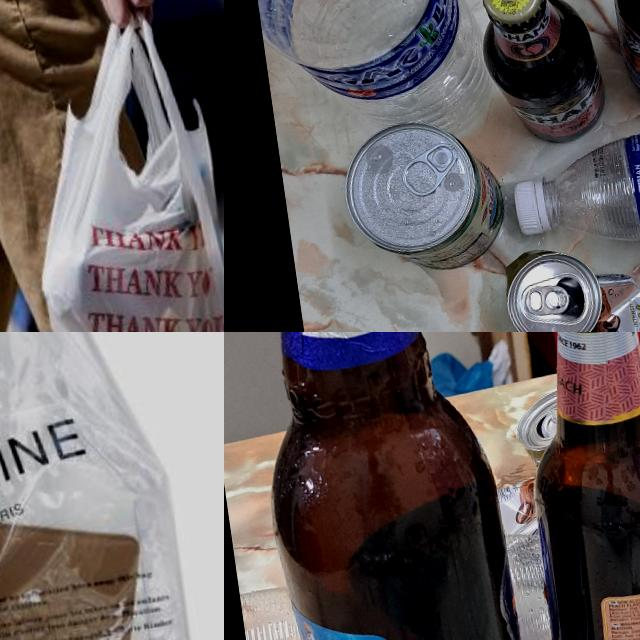aba de lata: (396, 140, 462, 202), (523, 280, 571, 320)
garrafa de vidro: (224, 332, 535, 640), (475, 0, 611, 151)
garrafa plástica: (241, 0, 495, 162), (506, 114, 640, 257)
lata: (338, 110, 511, 280), (500, 244, 640, 332), (514, 384, 565, 461)
sacola plástica: (4, 0, 224, 332), (0, 332, 224, 640)
tampa plástica: (512, 176, 556, 238)
